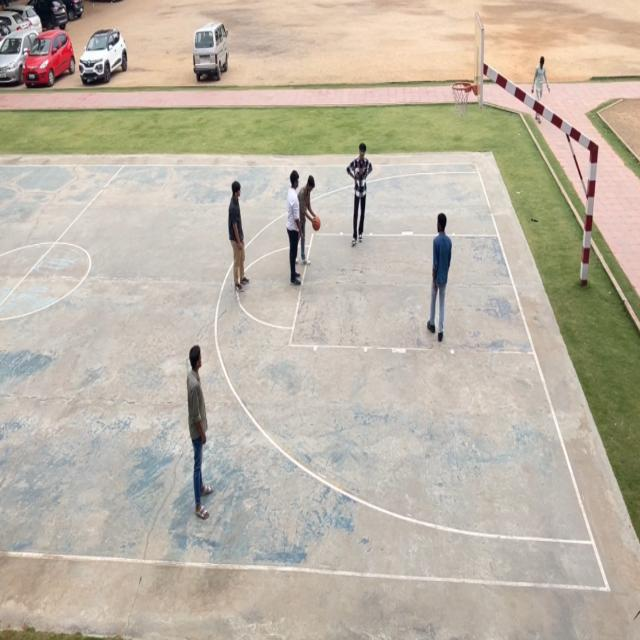basketball: (310, 211, 323, 237)
hoop: (451, 78, 472, 120)
